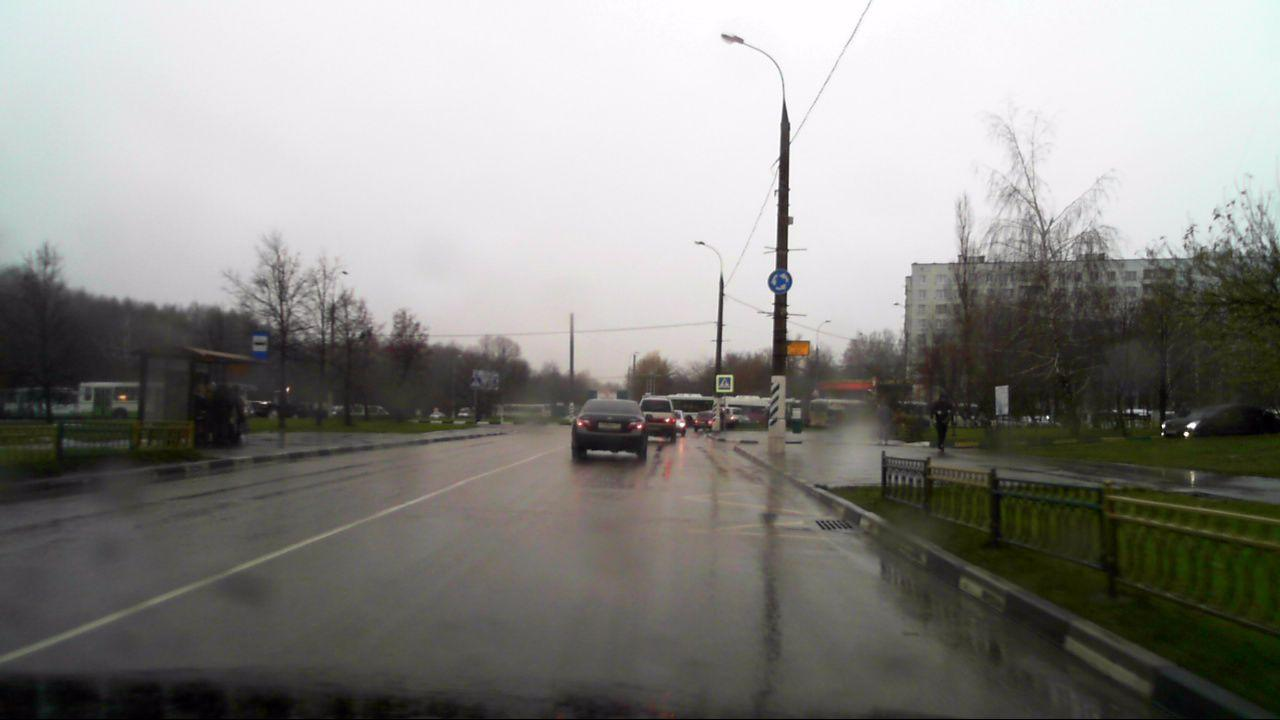4_3: (767, 269, 792, 293)
5_16: (250, 330, 270, 355)
5_19_1: (717, 376, 732, 390)
